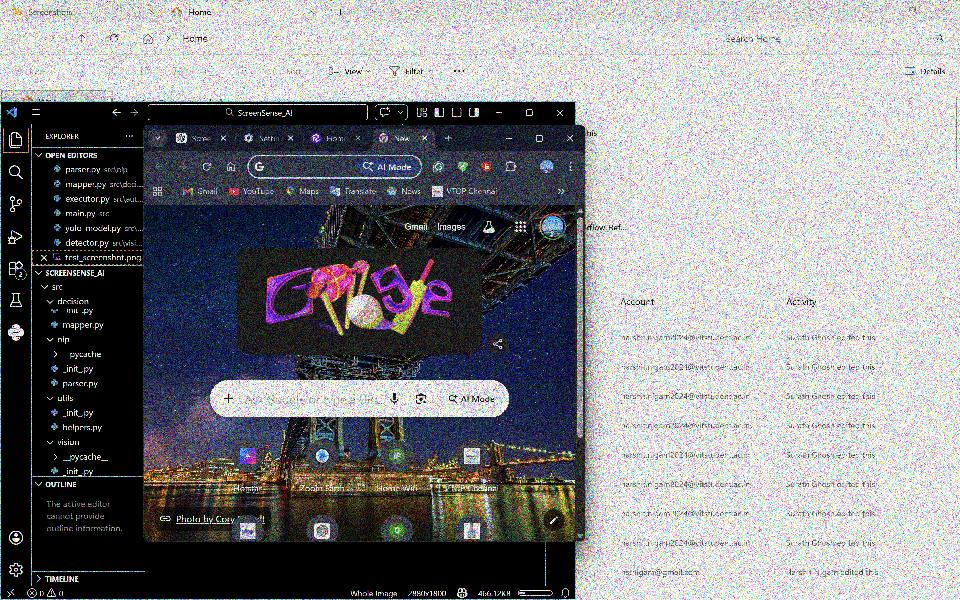close_button: (548, 103, 572, 121), (563, 127, 580, 149), (935, 1, 953, 19)
maximize_button: (527, 127, 553, 148), (903, 1, 924, 20), (519, 103, 541, 121)
minimize_button: (500, 126, 520, 151), (872, 1, 895, 19), (491, 103, 510, 123)
